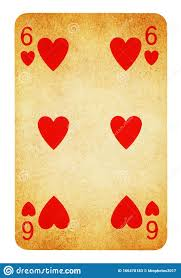six of hearts: (14, 14, 166, 248)
